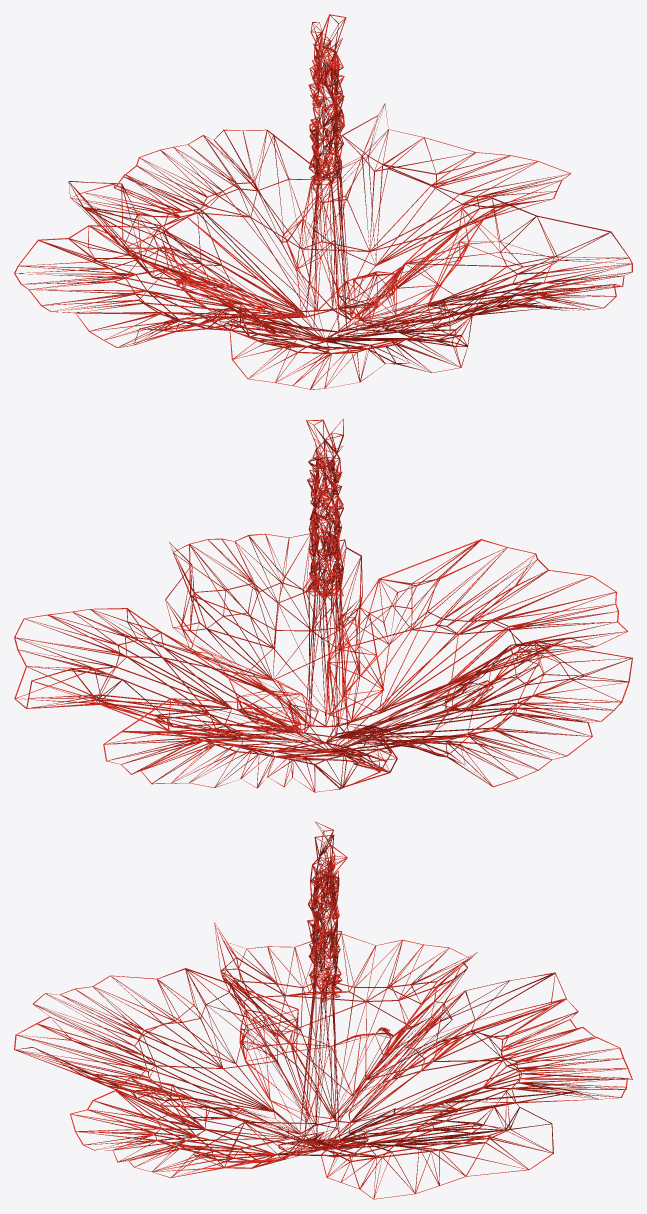
Rendered from 25ArtFlor_hibisco_009_decimate_wireframe_join_achatado.glb.
3 views of the same model, one above another, from view 1: azimuth 30°, elevation 25°; view 2: azimuth 150°, elevation 25°; view 3: azimuth 270°, elevation 25° (orthographic). The views are drawn at different scales.
Parts seen in each view (by area): view 1: 1782502358887 hibiscus; view 2: 1782502358887 hibiscus; view 3: 1782502358887 hibiscus.
Part boxes in pixels (left/top/right/bottom): 1782502358887 hibiscus: left=14, top=14, right=632, bottom=389; 1782502358887 hibiscus: left=14, top=418, right=632, bottom=792; 1782502358887 hibiscus: left=14, top=821, right=632, bottom=1199.
Size of the model in its own units: 4.88 by 2.82 by 4.88.
